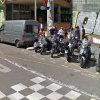Motorcycle: (35, 21, 100, 69)
